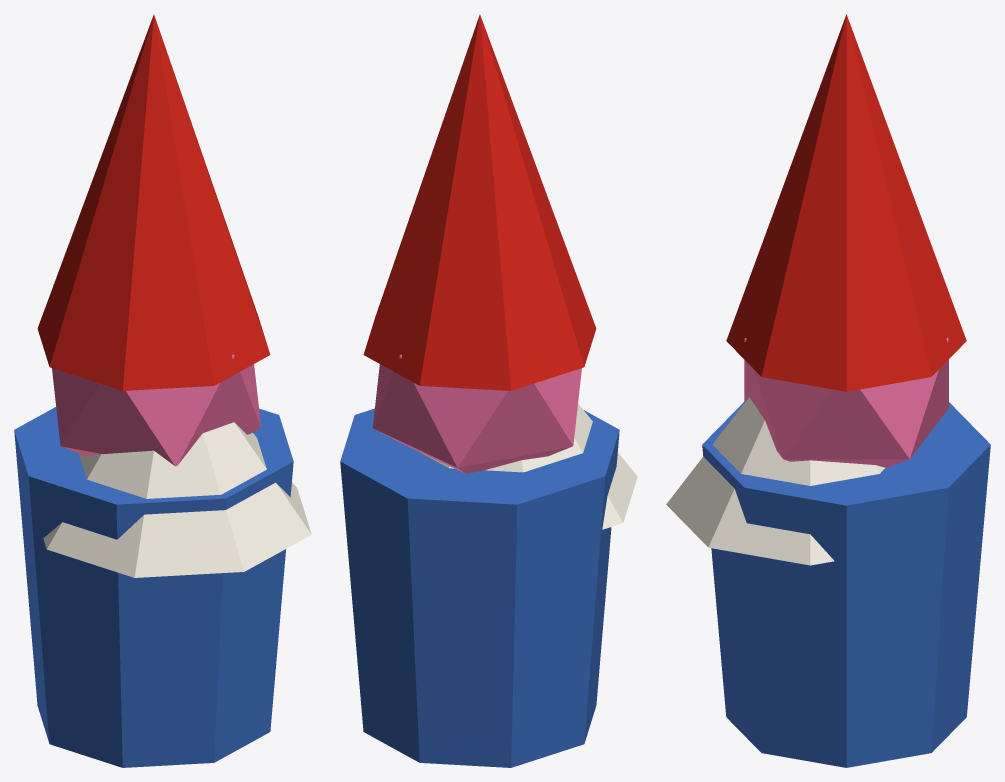
Rendered from patio_garden_gnome.glb.
3 views of the same model, side by side, from view 1: azimuth 30°, elevation 25°; view 2: azimuth 150°, elevation 25°; view 3: azimuth 270°, elevation 25° (orthographic).
Visible parts, largest first — view 1: garden_gnome; view 2: garden_gnome; view 3: garden_gnome.
Part boxes in pixels (x1,y1,x2,y2): garden_gnome: [14, 14, 311, 767]; garden_gnome: [340, 14, 637, 767]; garden_gnome: [666, 14, 990, 767].
Bounding box in the file's own units: 0.24 × 0.645 × 0.27.
